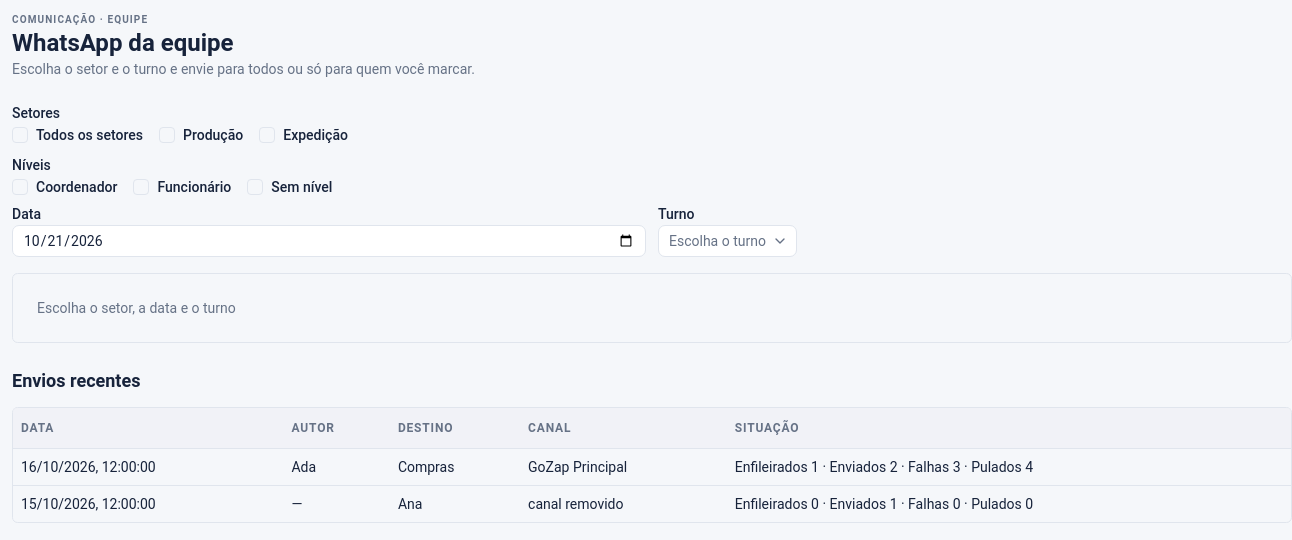
WhatsApp da equipe: seletores › Data começa em targets.today e o Turno lista os turnos ativos e Todos os turnos
This screenshot has width=1292, height=540.
Check: the date field labelled "Data" holds "2026-10-21", box x1=12 y1=225 x2=646 y2=257
Step 1. Click the dropdown labelled "turno" → (727, 241), box x1=658 y1=225 x2=797 y2=257
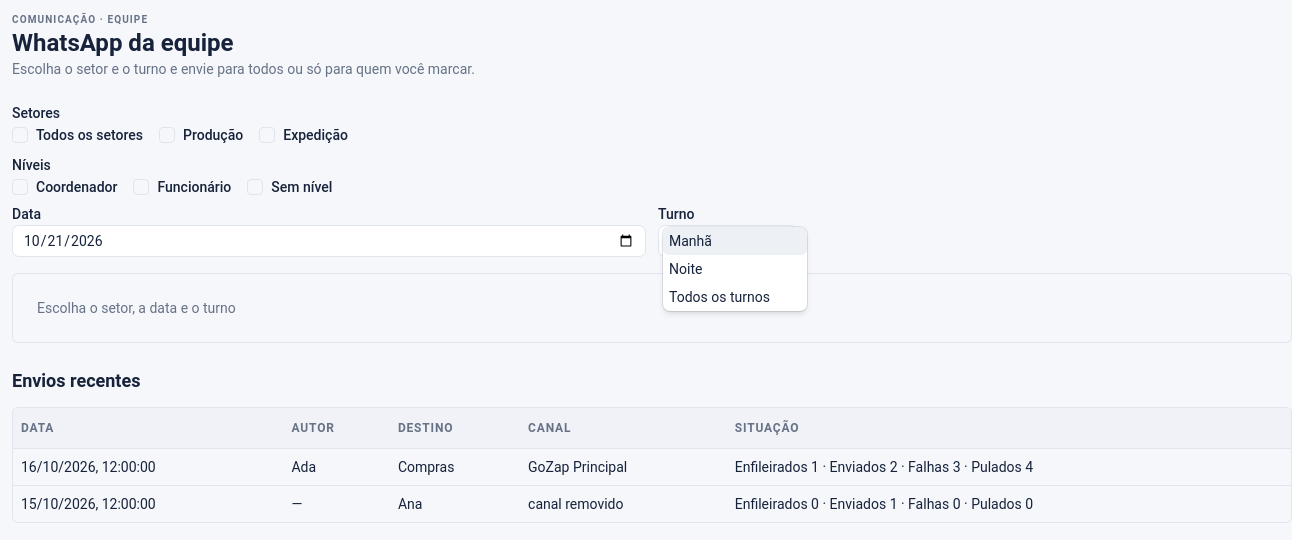
Check: the options read "Manhã", "Noite", "Todos os turnos", in this order, box x1=663 y1=227 x2=807 y2=255; x1=669 y1=261 x2=702 y2=277; x1=669 y1=289 x2=770 y2=305
